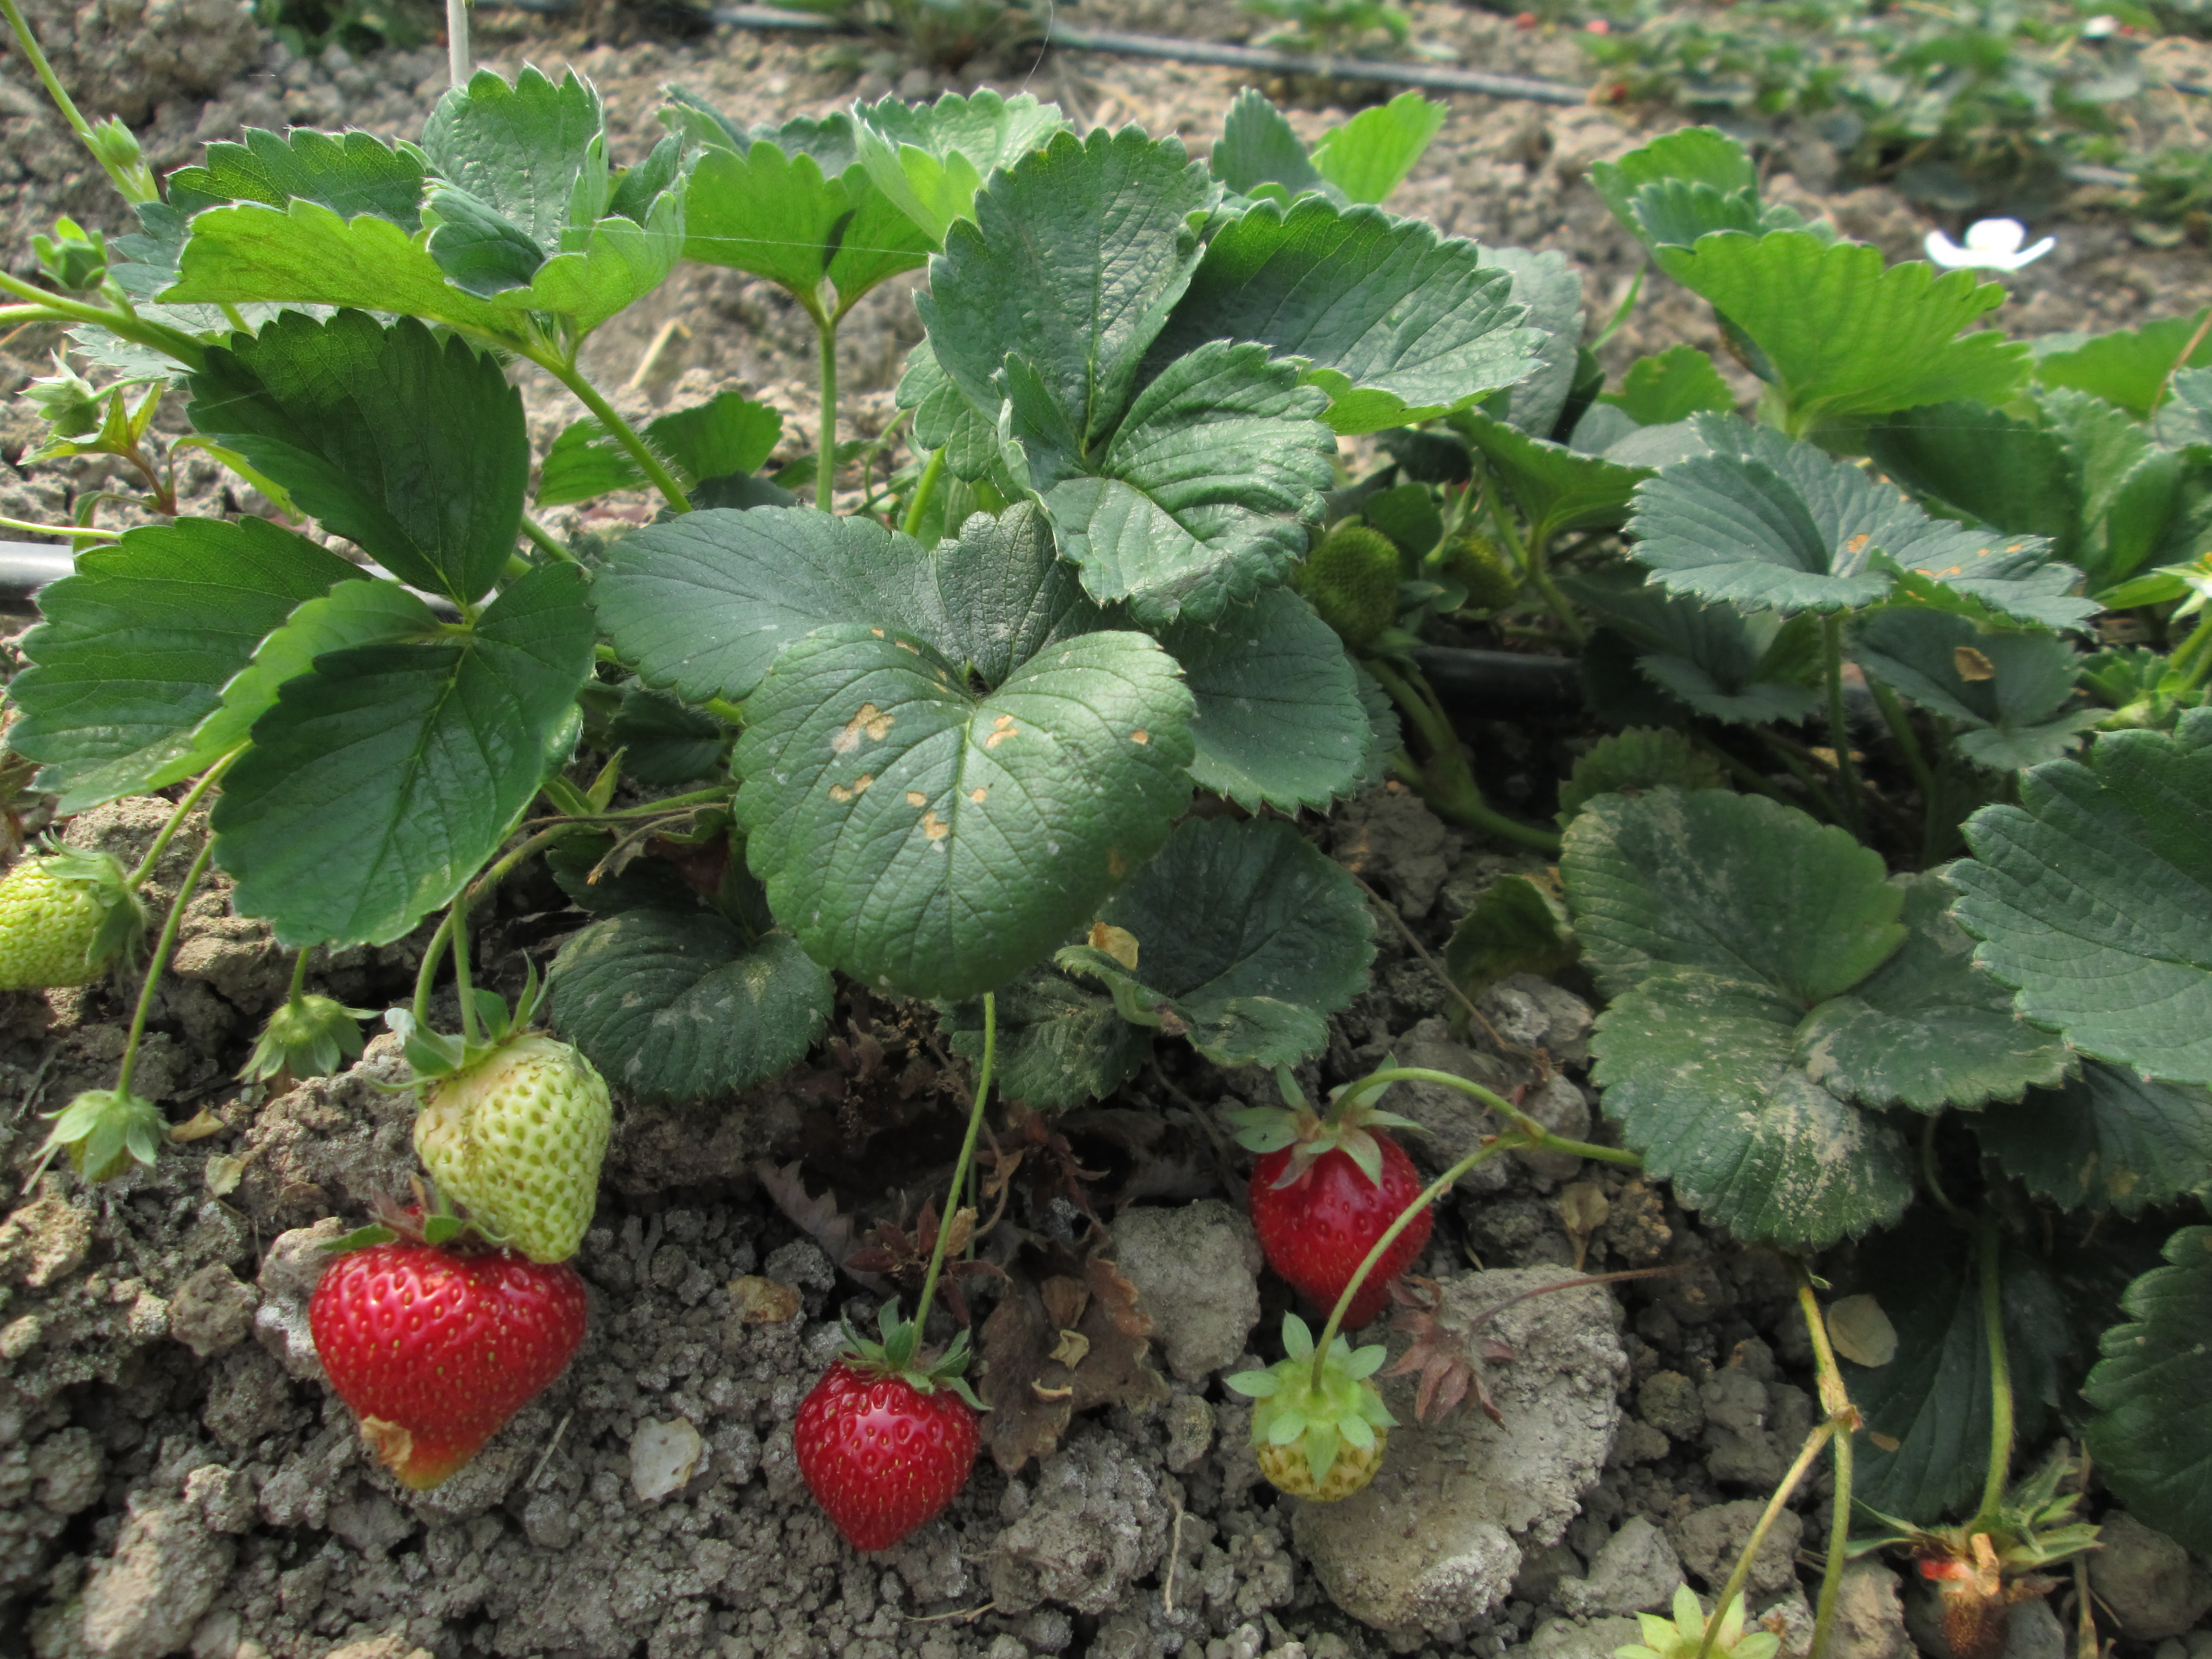StrawberryCone: (305, 1232, 597, 1499), (786, 1342, 989, 1568)
StrawberryIrremovable: (401, 1033, 620, 1263), (3, 845, 139, 1004), (1252, 1354, 1388, 1500), (1291, 516, 1409, 648), (63, 1093, 160, 1183)
StrawberryOther: (1233, 1119, 1433, 1340)
StrawberryRemovable: (310, 1232, 596, 1492), (789, 1345, 982, 1558), (1244, 1126, 1437, 1333)
